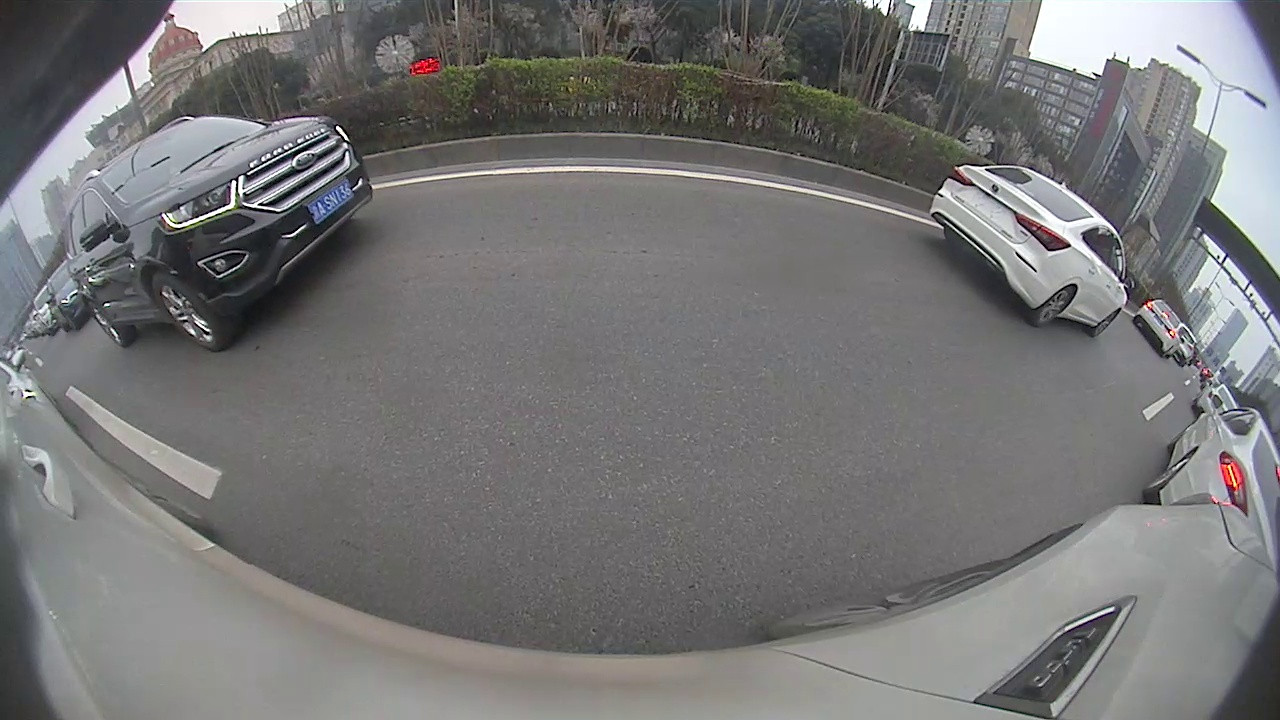car: (1102, 278, 1279, 444), (386, 157, 486, 224), (702, 146, 797, 205), (489, 166, 522, 191), (591, 153, 619, 181)
front: (1138, 330, 1226, 435), (475, 187, 485, 203)
rear: (438, 193, 454, 214), (730, 180, 743, 199)
